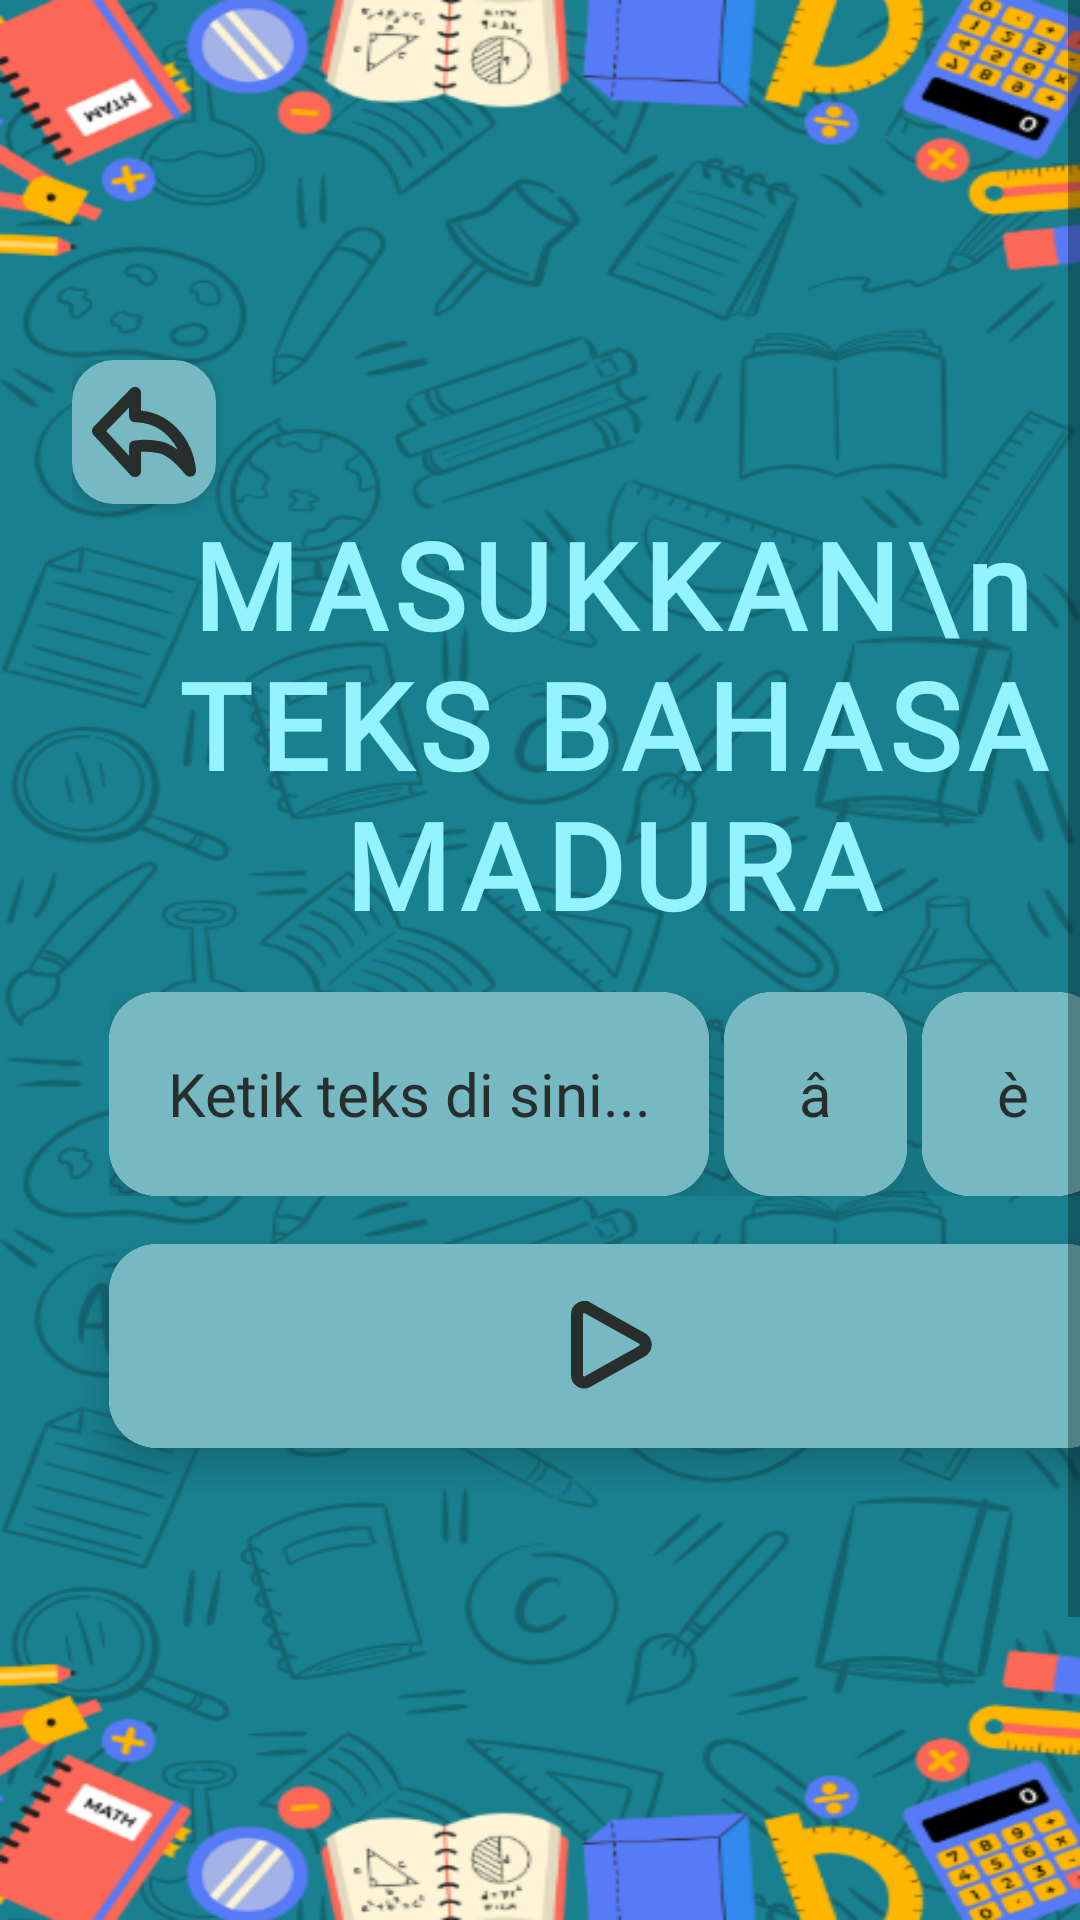

Screen size 1080*1920. Icon name, then its box in pixels as (x1, y1, x2, y2):
Back: (72, 360, 216, 504)
play: (571, 1301, 652, 1389)
